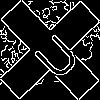U: (25, 25, 83, 83)
